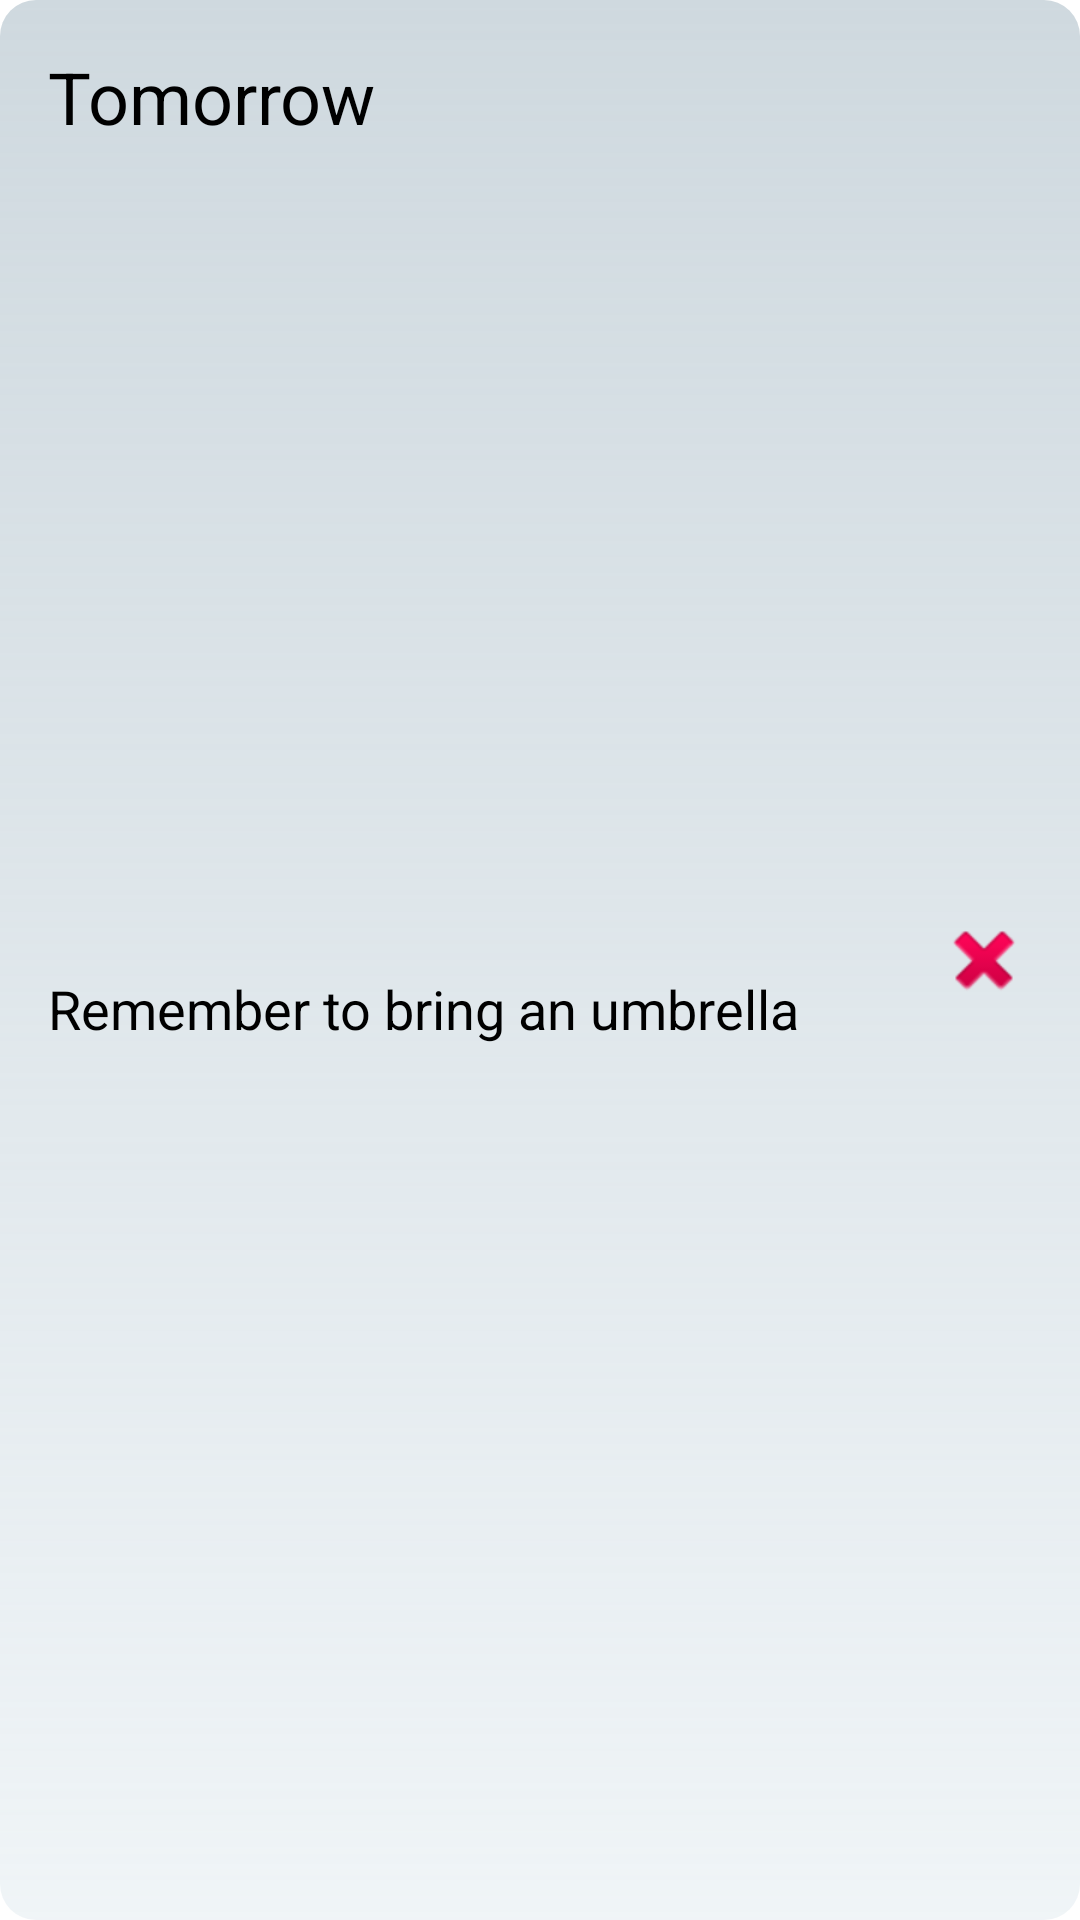

Point at icon controls on the screen. Image size 1080*1920, points as [x,y].
delete: [984,960]
